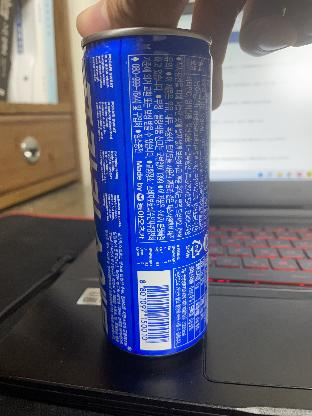Can: (79, 22, 211, 358)
